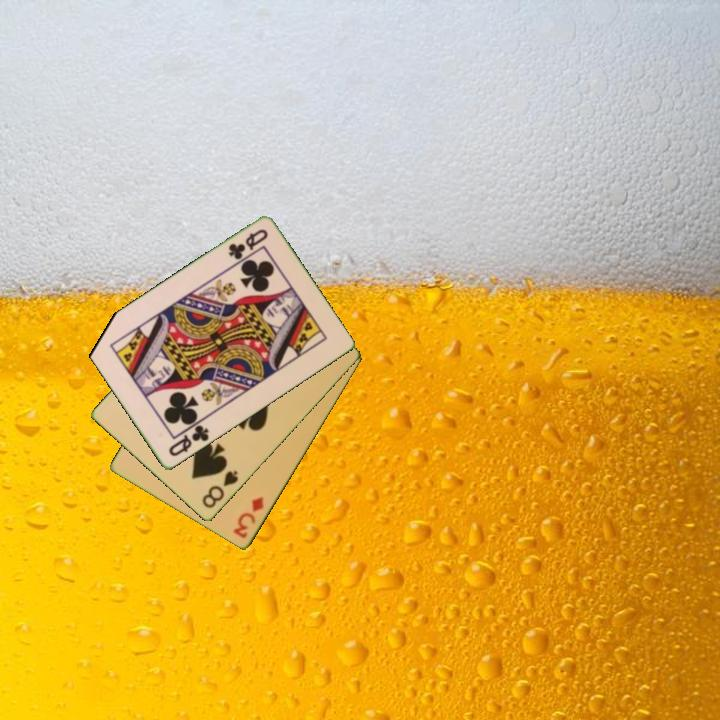3d: (230, 493, 267, 542)
8s: (199, 467, 241, 511)
Qc: (165, 421, 212, 460), (224, 226, 271, 263)
